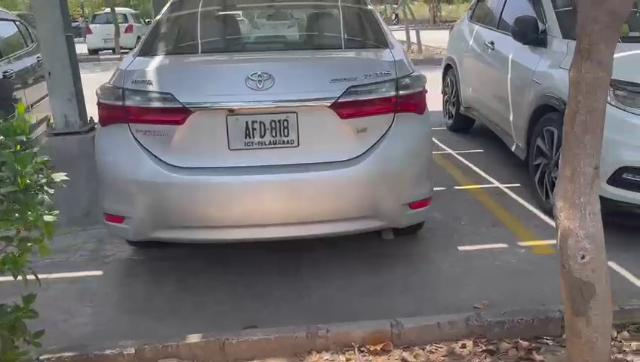plate: (226, 111, 299, 150)
